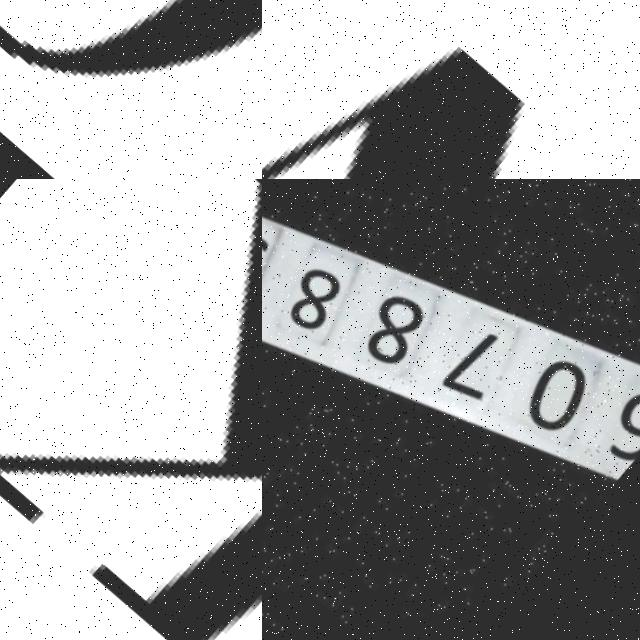0: (477, 334, 626, 486)
5: (262, 203, 303, 341)
6: (557, 370, 640, 500)
7: (401, 306, 539, 445)
8: (320, 270, 460, 413), (262, 244, 374, 373)
K: (0, 179, 262, 640)
N: (262, 0, 640, 179)
Q: (0, 0, 262, 179)
